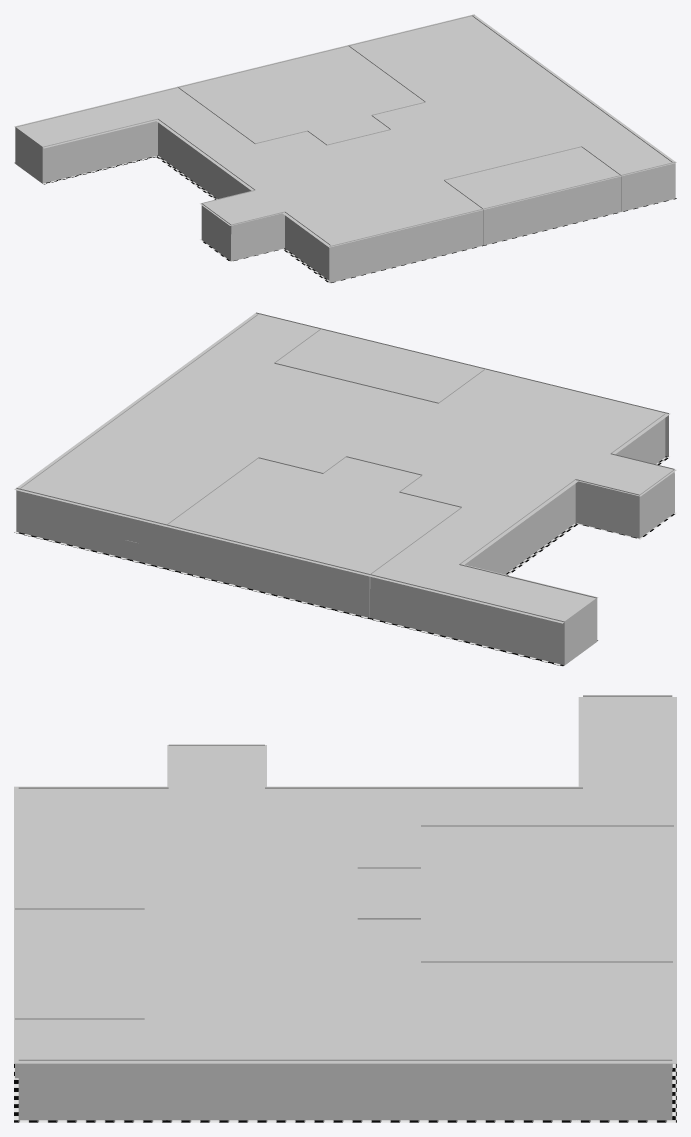
Rendered from EnvShell.fbx.
3 renders of one model, top to bottom at view 1: azimuth 30°, elevation 25°; view 2: azimuth 150°, elevation 25°; view 3: azimuth 270°, elevation 25°, orthographic. The views are drawn at different scales.
Visible parts, largest first — view 1: Ceiling, LeftWall, TopWall, Floor, MidWall, RightWall; view 2: Ceiling, RightWall, TopWall, Floor, LeftWall, MidWall; view 3: Ceiling, BottomWall, Floor, TopWall, MidWall.
Boxes of the visible parts, box(x1,y1,x2,y2) form: Ceiling: box(14, 14, 676, 247); LeftWall: box(329, 162, 675, 282); TopWall: box(15, 98, 330, 280); Floor: box(14, 155, 676, 283); MidWall: box(178, 45, 425, 145); RightWall: box(131, 14, 474, 99); Ceiling: box(14, 313, 676, 623); RightWall: box(16, 488, 429, 632); TopWall: box(429, 413, 674, 665); Floor: box(14, 456, 676, 666); LeftWall: box(256, 312, 668, 456); MidWall: box(167, 456, 461, 617); Ceiling: box(14, 697, 676, 1063); BottomWall: box(18, 1059, 672, 1119); Floor: box(14, 1063, 676, 1122); TopWall: box(18, 695, 672, 788); MidWall: box(357, 825, 673, 962).
Size of the model in its own units: 7989 by 614 by 6098.
